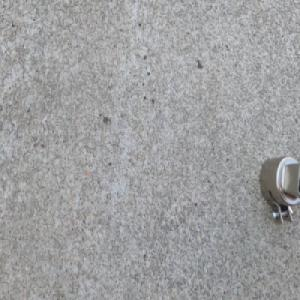MetalPart: (256, 150, 300, 229)
